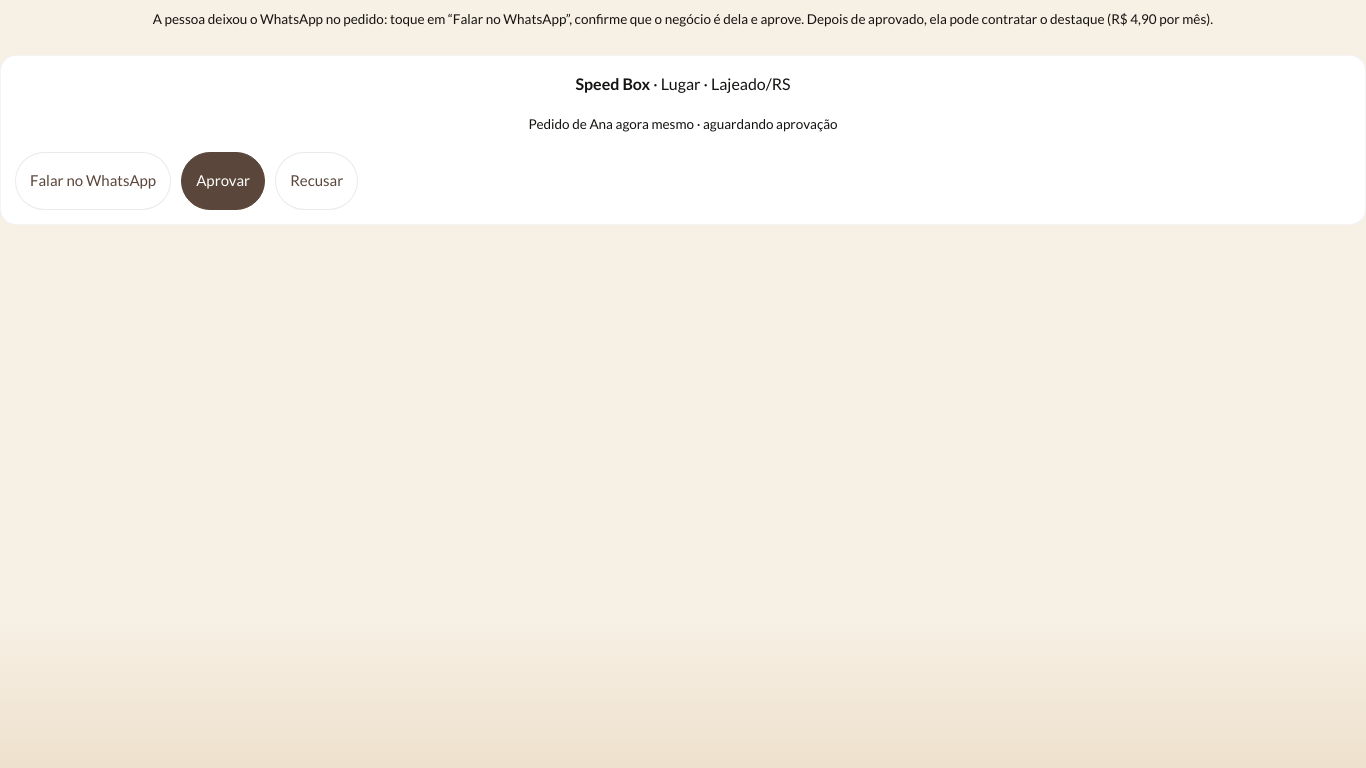
Test: Reivindicação: lista do profissional › recusar não vincula nada e o pedido some da lista
Click the button "Recusar".
click(317, 181)  # box [275, 152, 358, 210]
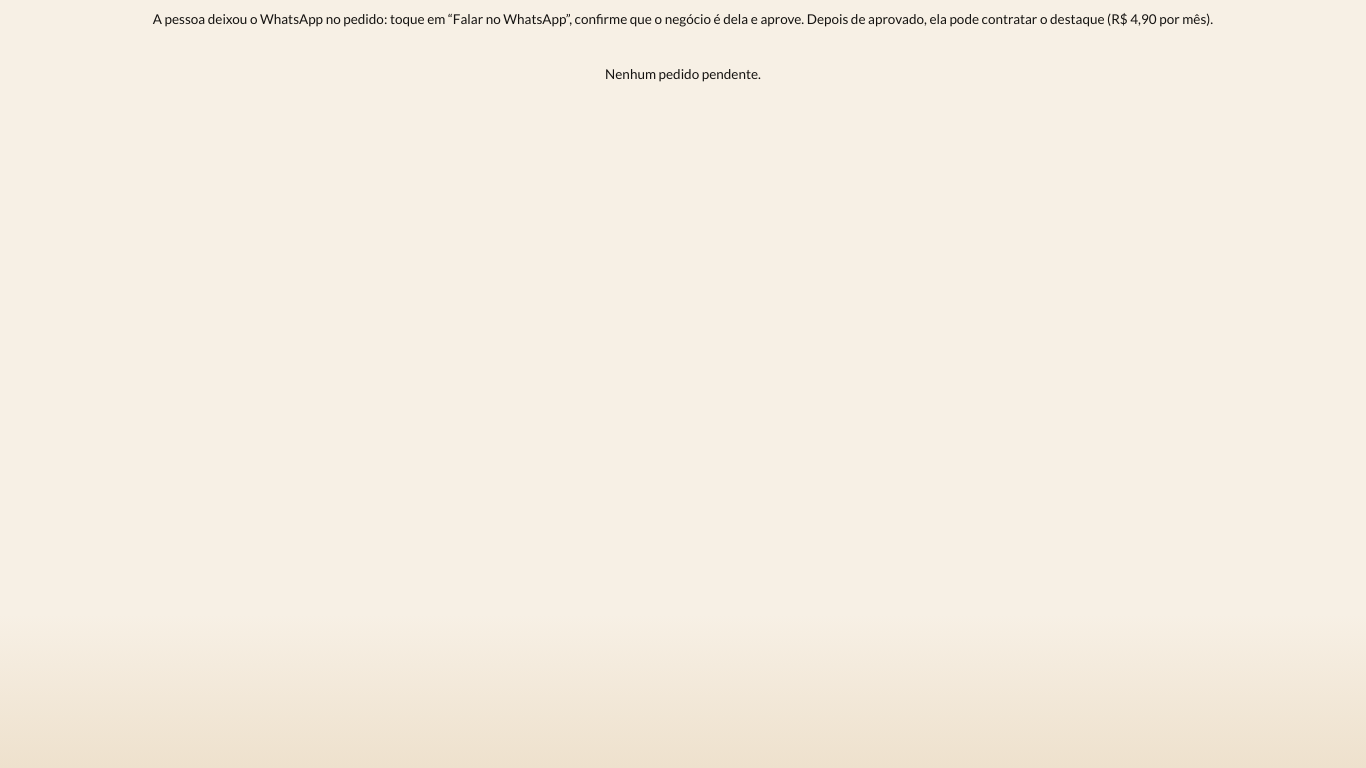
Now the text "Nenhum pedido pendente." is shown, box [605, 66, 761, 82]
